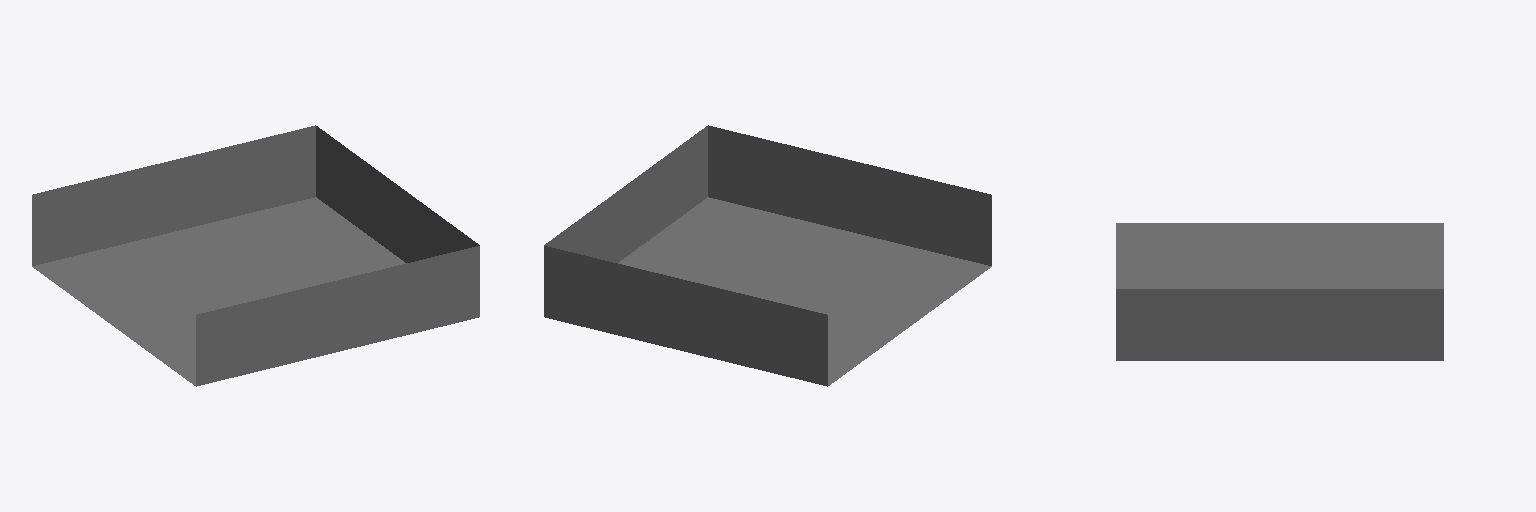
Rendered from room.obj.
3 views of the same model, side by side, from view 1: azimuth 30°, elevation 25°; view 2: azimuth 150°, elevation 25°; view 3: azimuth 270°, elevation 25° (orthographic).
Bounding box in the file's own units: 10.18 × 2.46 × 10.18.